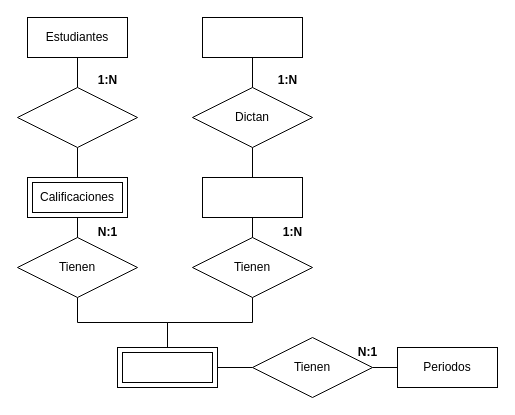
Some shapes in this 515 by 415 pixel diagram are drawn without their labels. Here are the shapes that lost their labels. From the top down, the centre of each, then its label:
the point at 252,37: Docentes
the point at 77,117: Obtienen
the point at 252,197: Cursos
the point at 167,367: Grupos
